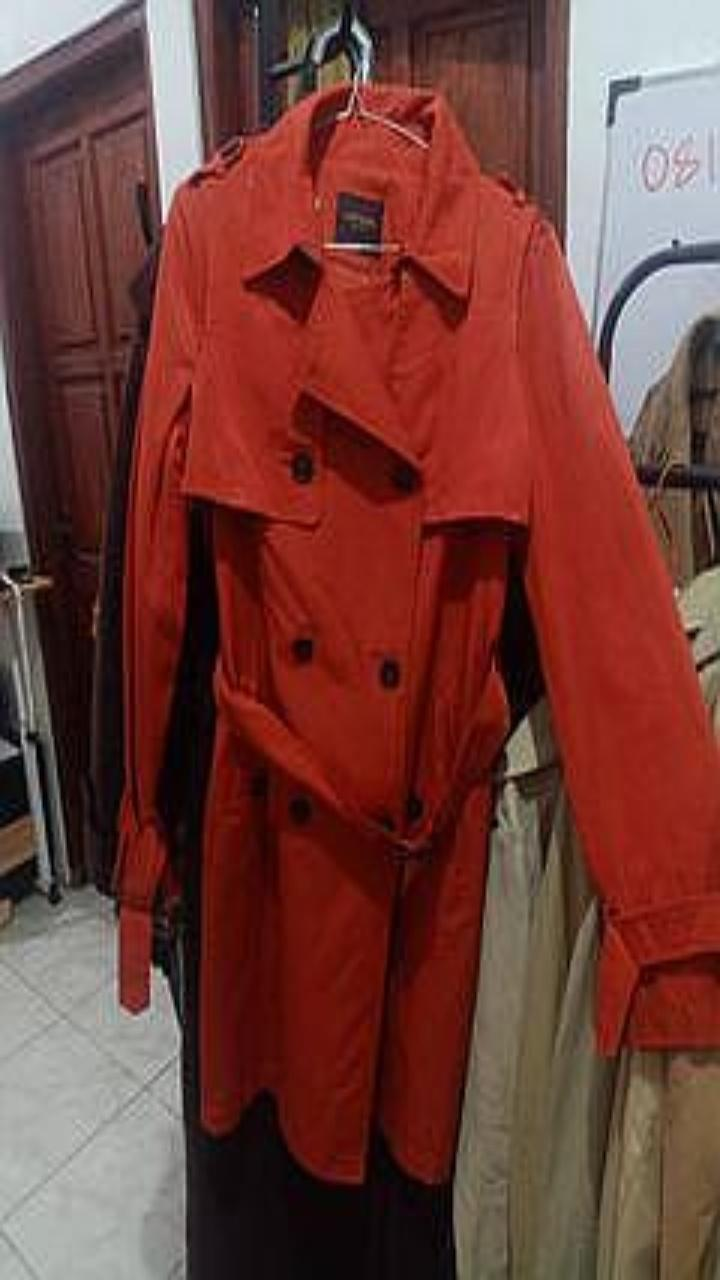Coat: (116, 87, 719, 1182), (630, 315, 719, 466)
